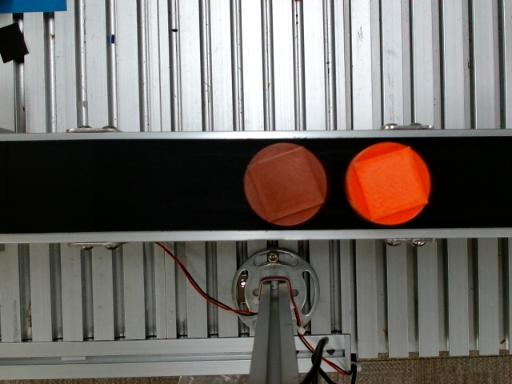Square: (248, 146, 324, 222), (353, 146, 428, 221)
